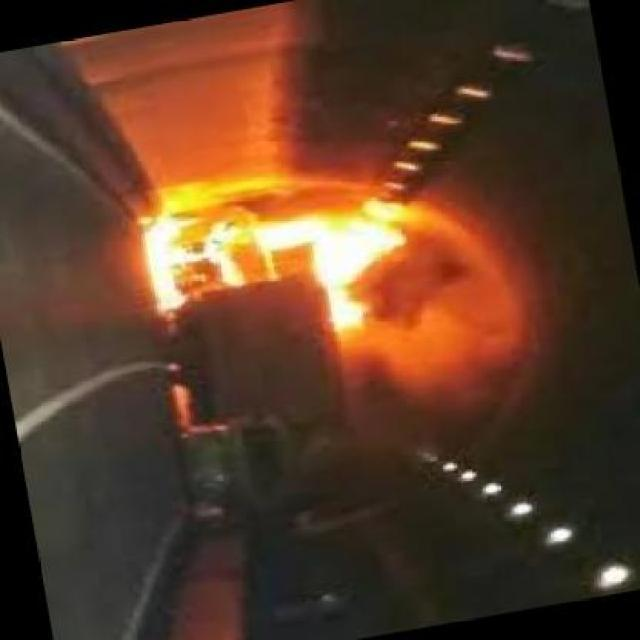Fire: (118, 174, 415, 352)
